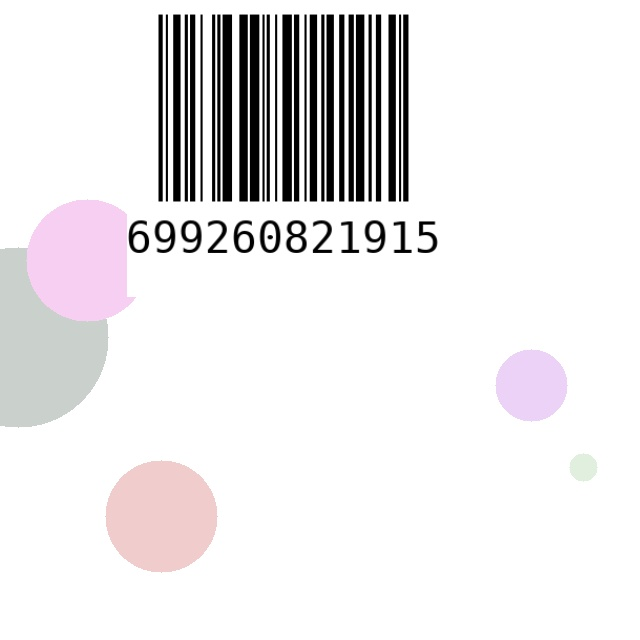barcode: (127, 3, 440, 297)
